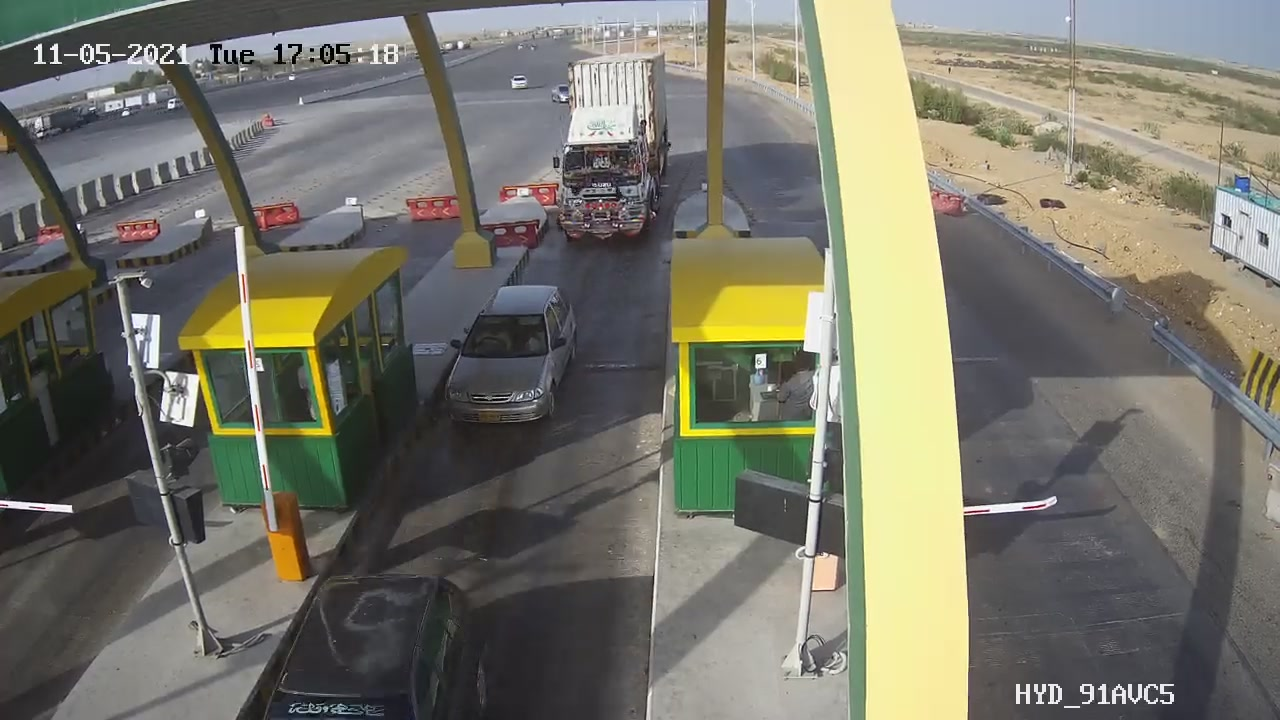F1: (422, 273, 592, 451)
